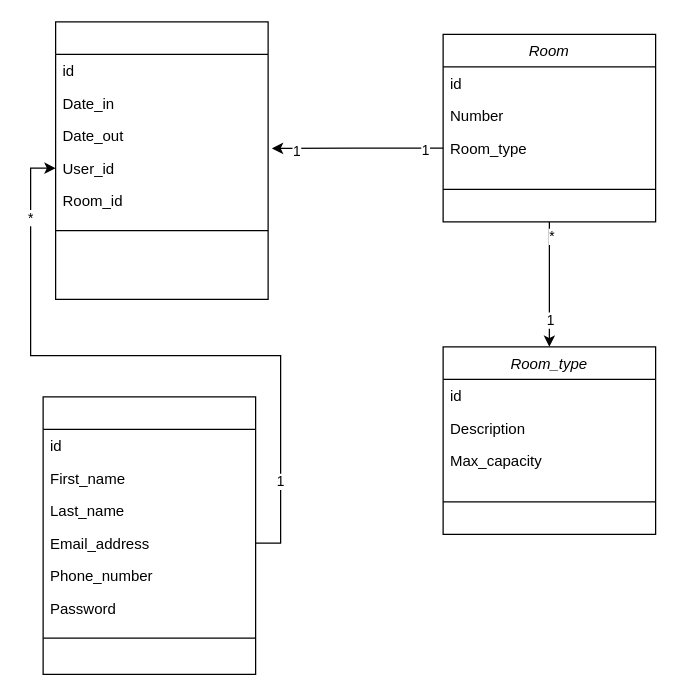
This 678x696 diagram has some shape labels left out. The shapes that lost their labels are listed below. From the top down, each one's box as (x1, y1, x2, y2) in pixels, then its label:
(54, 21, 268, 299): Booking
(42, 396, 256, 674): User
